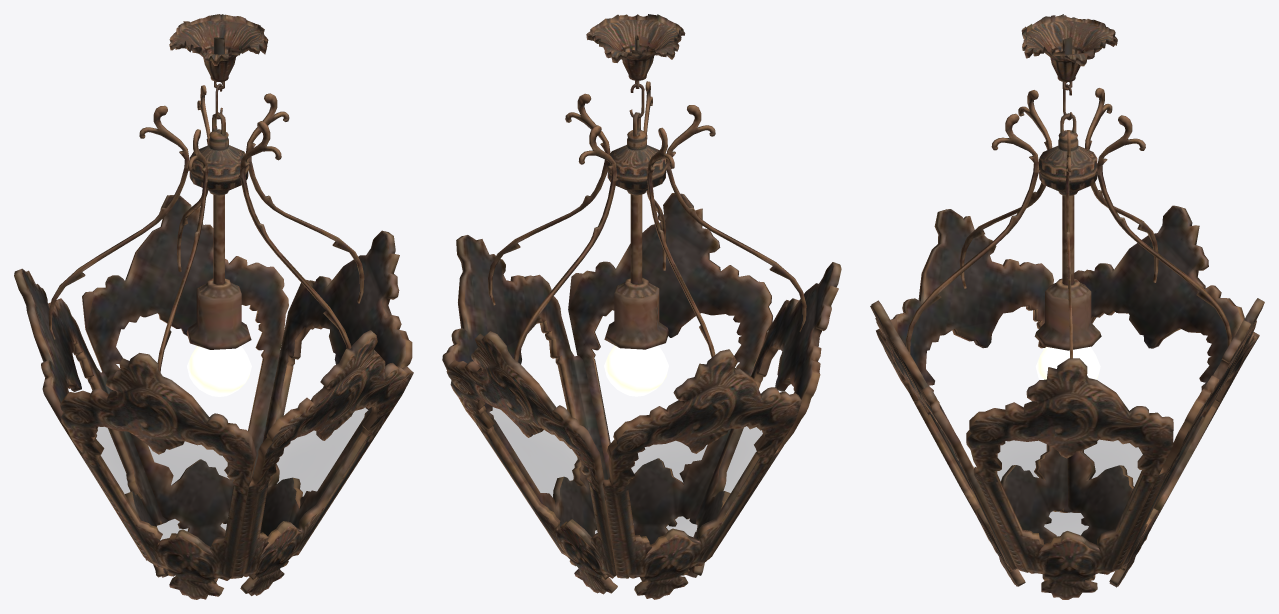
File: chandelier.glb
The picture shows the model from 3 angles, left to right: view 1: azimuth 30°, elevation 25°; view 2: azimuth 150°, elevation 25°; view 3: azimuth 270°, elevation 25°; orthographic projection.
Parts seen in each view (by area): view 1: lantern_chandelier_01; view 2: lantern_chandelier_01; view 3: lantern_chandelier_01.
Boxes of the visible parts, bbox=[...] form: lantern_chandelier_01: bbox=[14, 14, 413, 599]; lantern_chandelier_01: bbox=[442, 14, 841, 599]; lantern_chandelier_01: bbox=[870, 14, 1264, 599].
Size of the model in its own units: 0.5792 by 0.8776 by 0.5746.
Materials: 3 (2 with a texture image).
